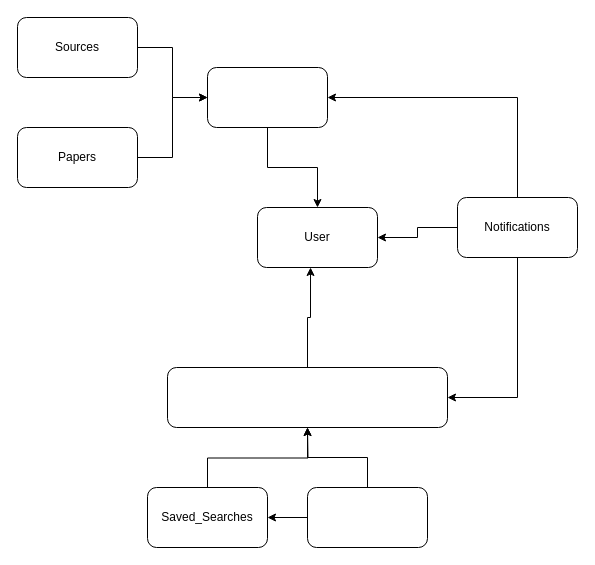
This 595x565 diagram has some shape labels left out. The shapes that lost their labels are listed below. From the top down, each one's box as (x1, y1, x2, y2) in pixels, then its label:
(206, 66, 328, 128): Records
(166, 366, 448, 428): Subscriber_saved_search_subscriptions
(306, 486, 428, 548): Subscribers
